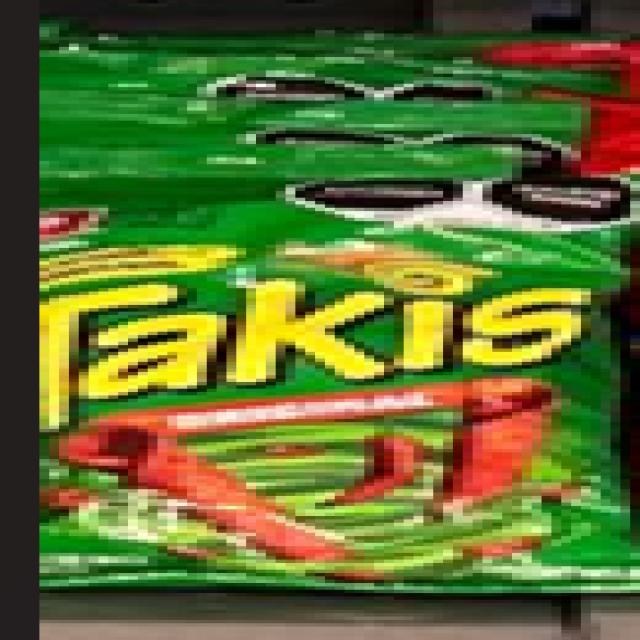takisOriginal: (51, 188, 640, 595)
